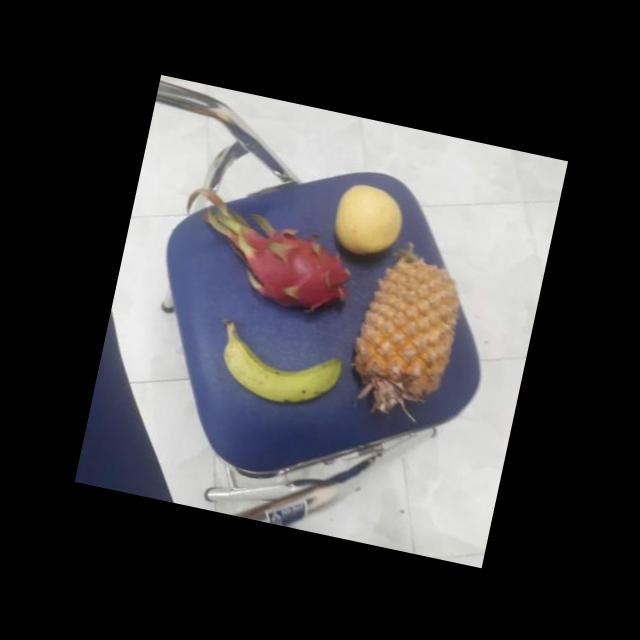banana: (208, 322, 342, 410)
pear: (324, 180, 410, 262)
pitaya: (226, 218, 358, 321)
